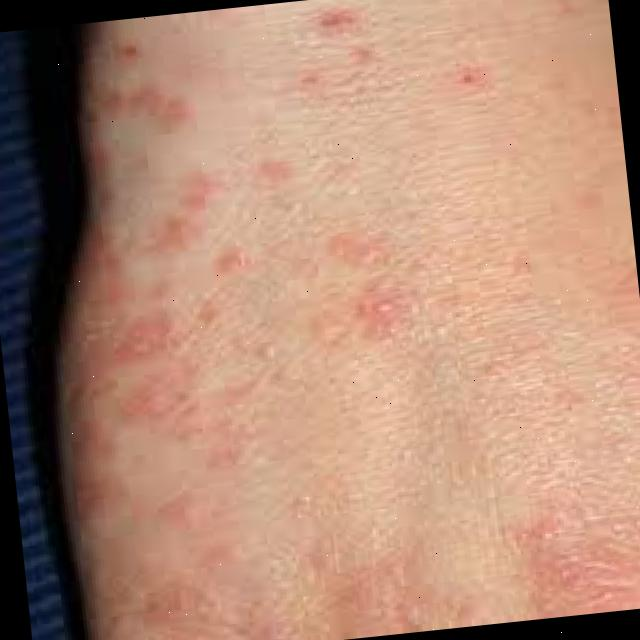kan emici bocekler: (89, 17, 595, 640)
